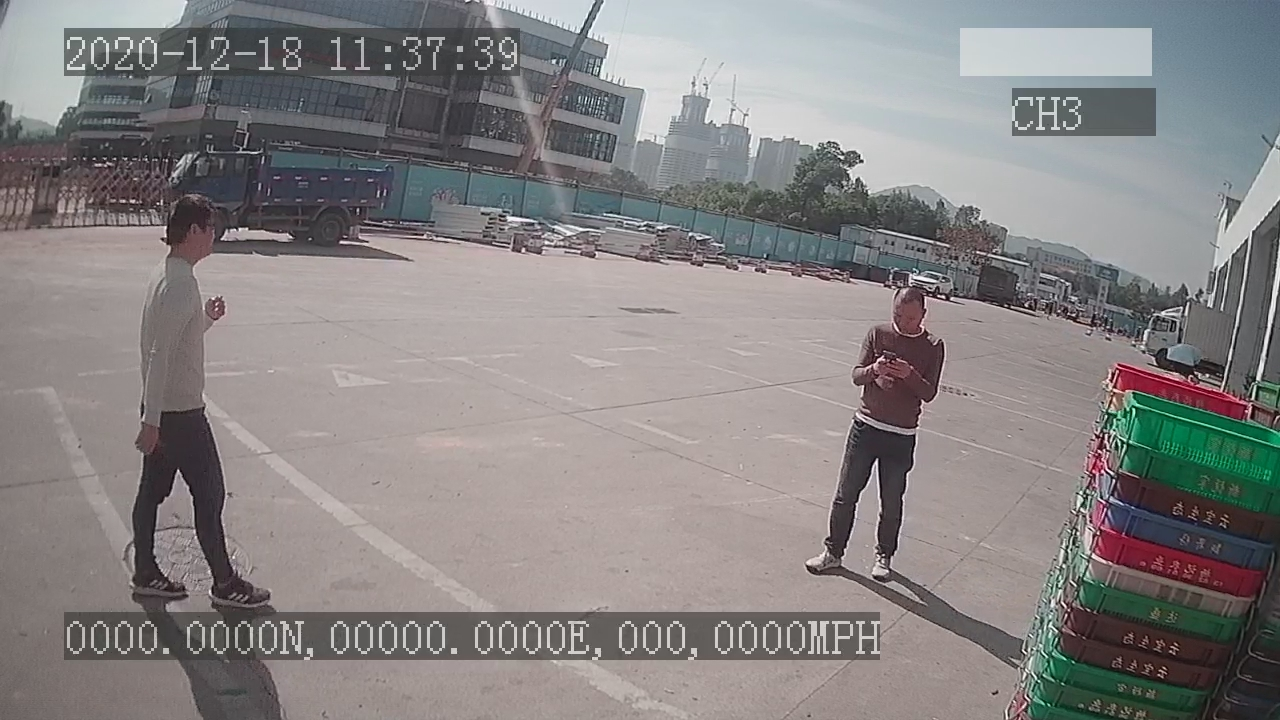person: (797, 284, 946, 582)
